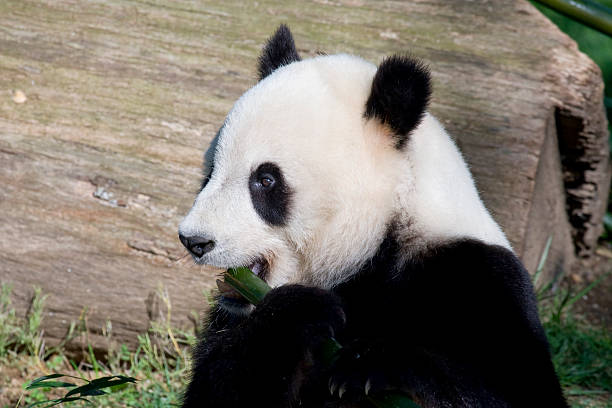panda: (140, 19, 460, 316)
